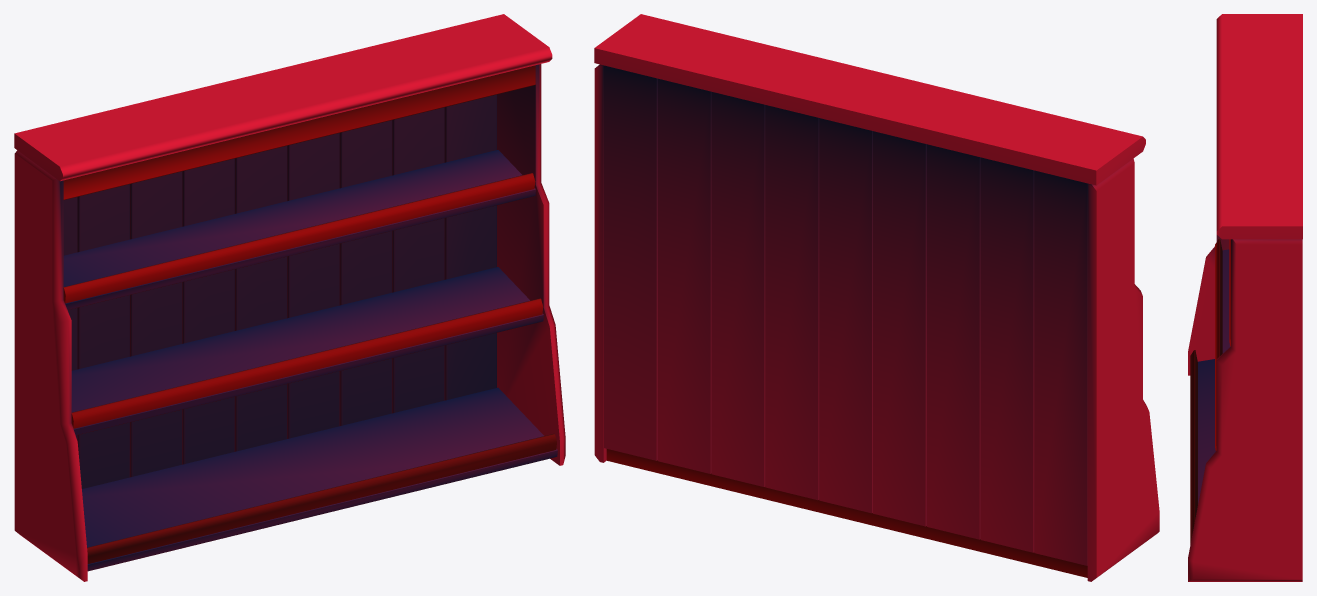
Rendered from CI_Bakery_BreadShelves_Wall.glb.
The picture shows the model from 3 angles, left to right: view 1: azimuth 30°, elevation 25°; view 2: azimuth 150°, elevation 25°; view 3: azimuth 270°, elevation 25°; orthographic projection. The views are drawn at different scales.
Parts seen in each view (by area): view 1: CI_Bakery_BreadShelves_Wall; view 2: CI_Bakery_BreadShelves_Wall; view 3: CI_Bakery_BreadShelves_Wall.
Boxes of the visible parts, bbox=[...] form: CI_Bakery_BreadShelves_Wall: bbox=[14, 14, 565, 581]; CI_Bakery_BreadShelves_Wall: bbox=[594, 14, 1159, 581]; CI_Bakery_BreadShelves_Wall: bbox=[1188, 14, 1302, 581].
Size of the model in its own units: 1.4 by 1.1 by 0.32.
